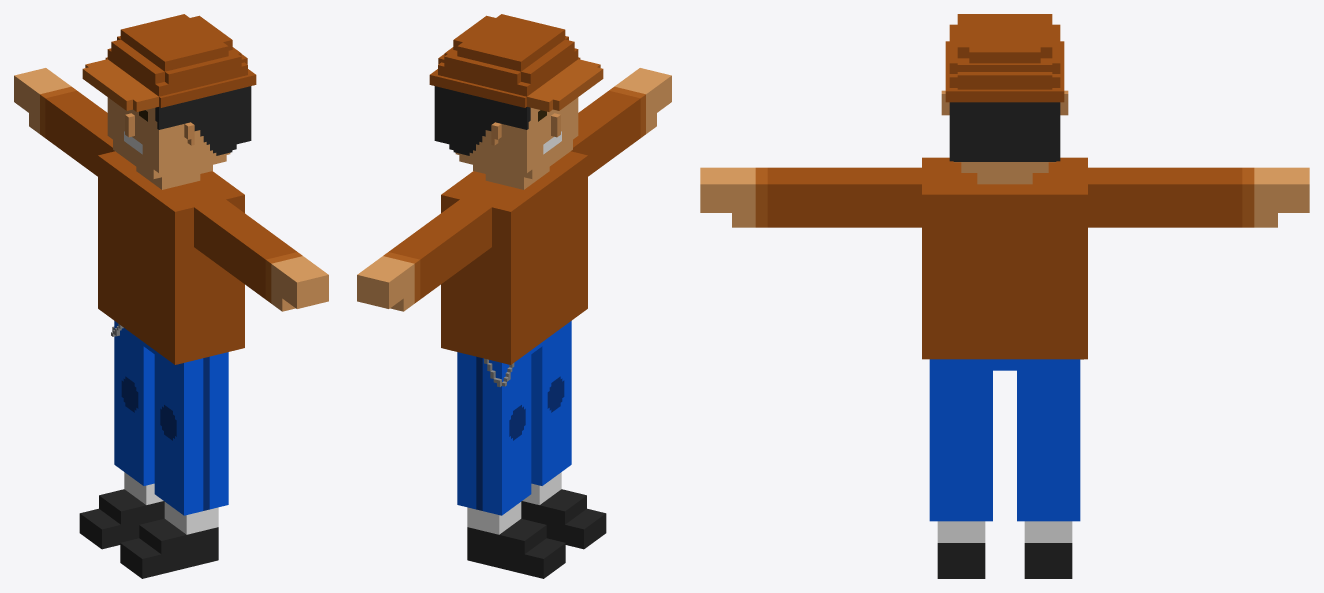
Rendered from male chars-2.obj.
3 renders of one model, left to right at view 1: azimuth 30°, elevation 25°; view 2: azimuth 150°, elevation 25°; view 3: azimuth 270°, elevation 25°, orthographic. The views are drawn at different scales.
Bounding box in the file's own units: 3.9 × 15.1 × 15.4.
1 material, 1 textured.
